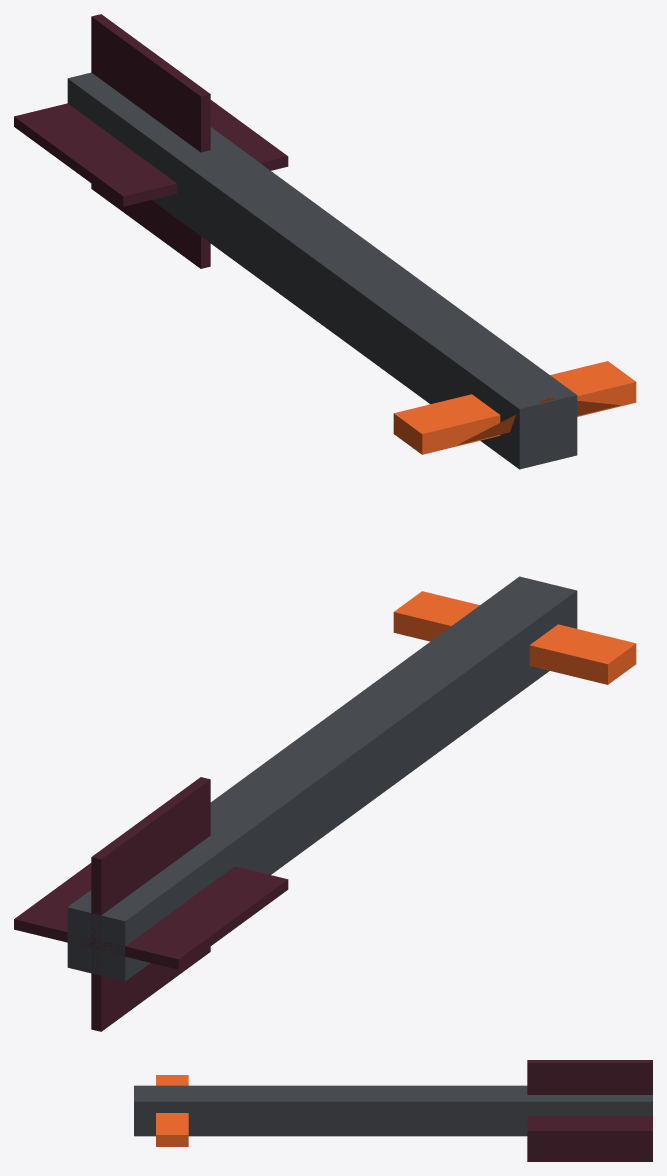
File: fiend_bolt.glb
3 renders of one model, top to bottom at view 1: azimuth 30°, elevation 25°; view 2: azimuth 150°, elevation 25°; view 3: azimuth 270°, elevation 25°, orthographic. The views are drawn at different scales.
Visible parts, largest first — view 1: fiend_bolt; view 2: fiend_bolt; view 3: fiend_bolt.
Part boxes in pixels (left/top/right/bottom): fiend_bolt: left=14, top=14, right=636, bottom=469; fiend_bolt: left=14, top=576, right=636, bottom=1031; fiend_bolt: left=134, top=1060, right=652, bottom=1161.
Bounding box in the file's own units: 0.26 × 0.2 × 1.17.
1 material, 1 textured.
